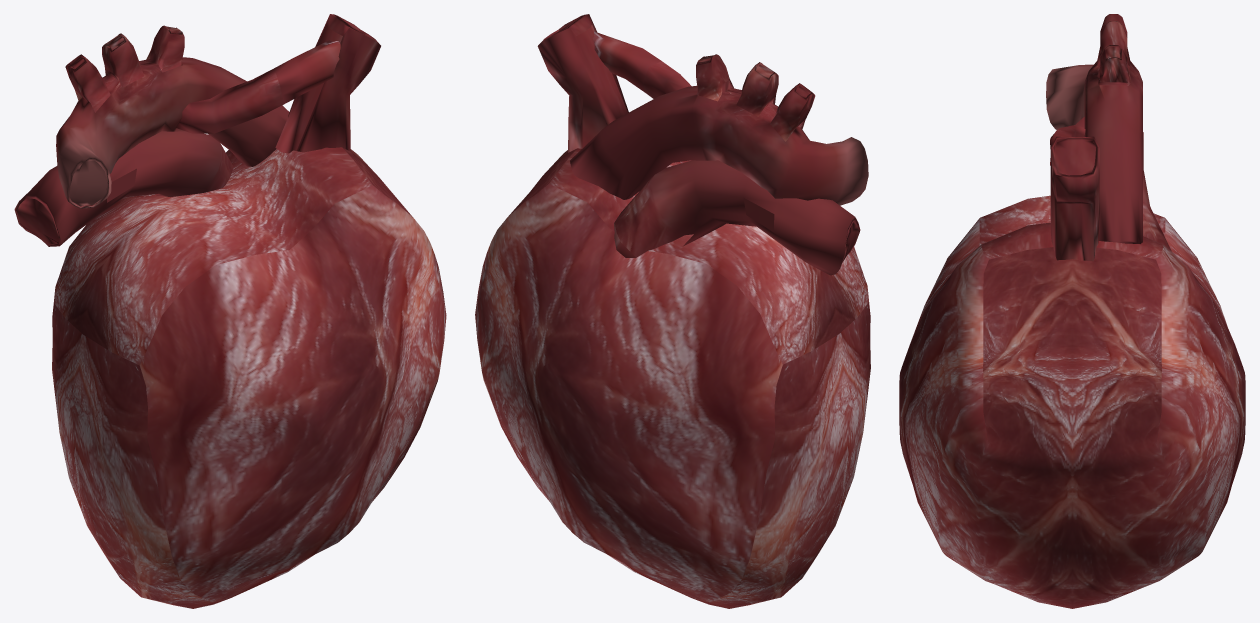
Rendered from Puzzle 3 Heart.fbx.
3 views of the same model, side by side, from view 1: azimuth 30°, elevation 25°; view 2: azimuth 150°, elevation 25°; view 3: azimuth 270°, elevation 25° (orthographic).
Visible parts, largest first — view 1: Puzzle 3 Heart; view 2: Puzzle 3 Heart; view 3: Puzzle 3 Heart.
Boxes of the visible parts, bbox=[...] form: Puzzle 3 Heart: bbox=[14, 14, 446, 608]; Puzzle 3 Heart: bbox=[475, 14, 870, 608]; Puzzle 3 Heart: bbox=[899, 14, 1245, 608].
Bounding box in the file's own units: 64.48 × 94.88 × 53.57.
